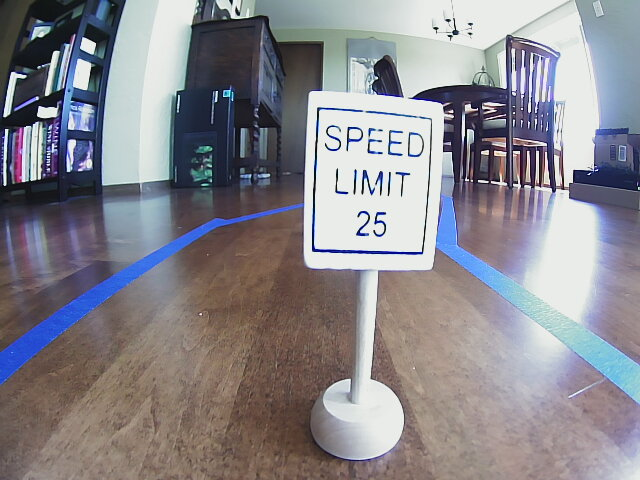SpeedLimit25: (309, 93, 434, 266)
